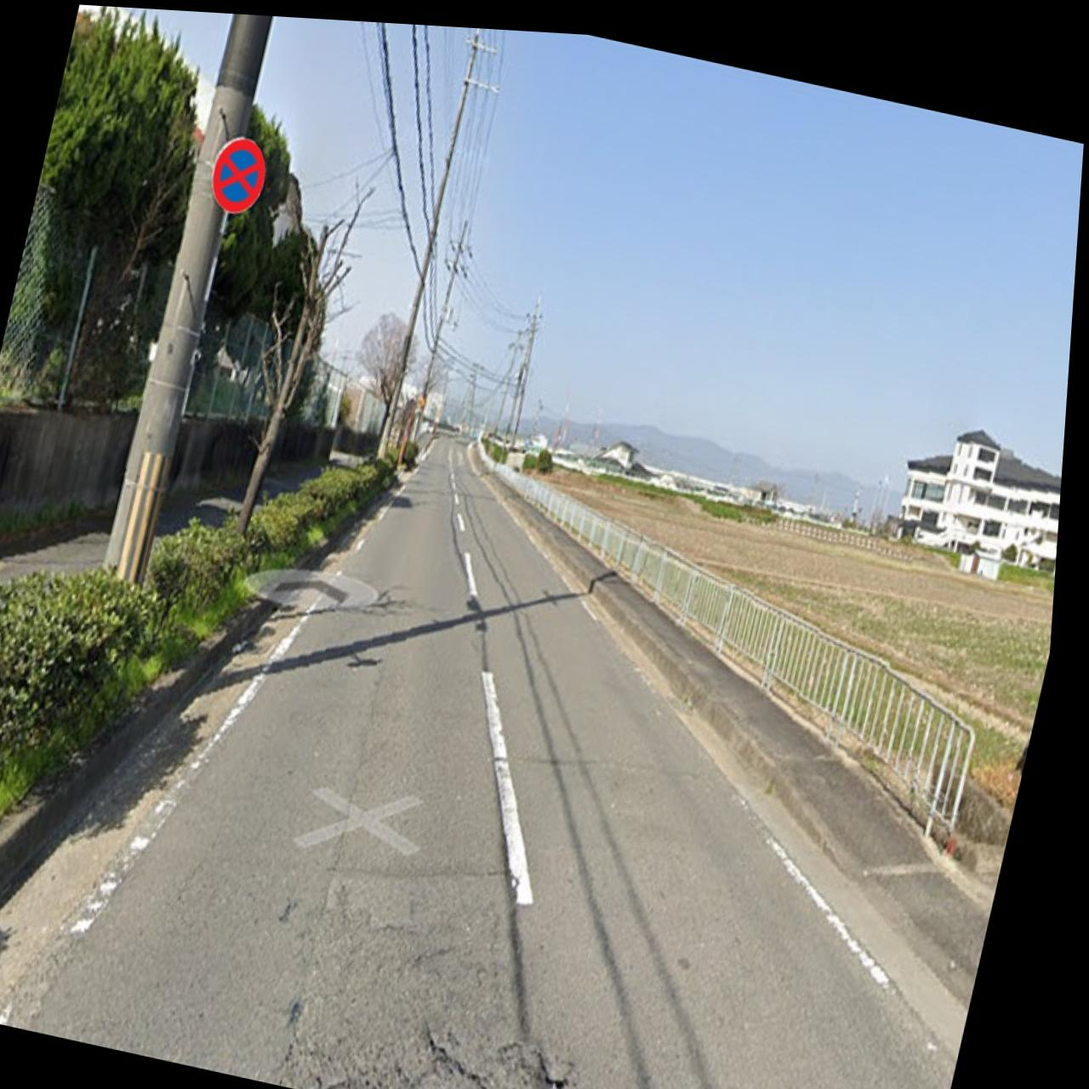stop_sign: (204, 129, 275, 215)
